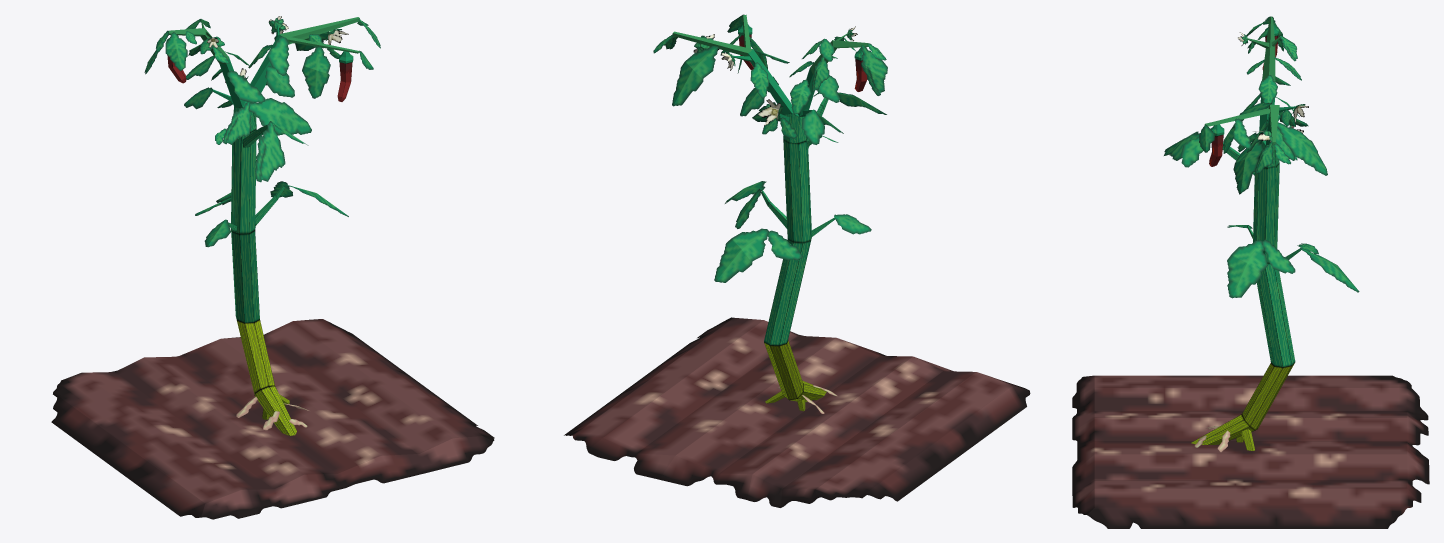
The model's file is pje_chilli_plant.obj.
3 views of the same model, side by side, from view 1: azimuth 30°, elevation 25°; view 2: azimuth 150°, elevation 25°; view 3: azimuth 270°, elevation 25° (orthographic). The views are drawn at different scales.
Visible parts, largest first — view 1: ground_Plane.001, plant_Cylinder, leaves_Plane.028; view 2: ground_Plane.001, leaves_Plane.028, plant_Cylinder; view 3: ground_Plane.001, leaves_Plane.028, plant_Cylinder.
Boxes of the visible parts, x1,y1,x2,y2 form: ground_Plane.001: [51, 319, 494, 519]; plant_Cylinder: [166, 17, 359, 435]; leaves_Plane.028: [144, 16, 380, 247]; ground_Plane.001: [564, 317, 1030, 507]; leaves_Plane.028: [653, 14, 887, 282]; plant_Cylinder: [672, 14, 868, 413]; ground_Plane.001: [1072, 375, 1429, 528]; leaves_Plane.028: [1164, 16, 1359, 298]; plant_Cylinder: [1191, 16, 1300, 452].
Bounding box in the file's own units: 1 × 1.25 × 1.
